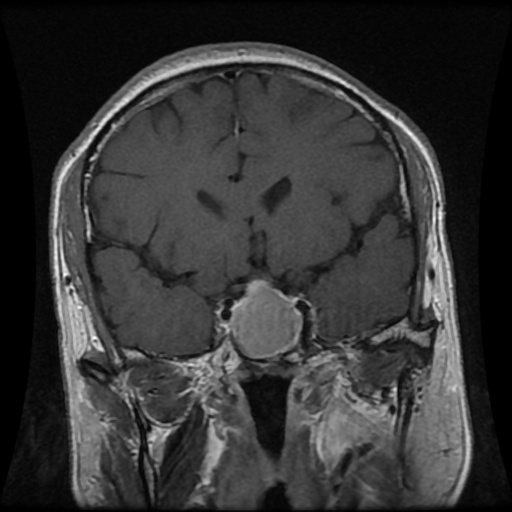pituitary: (228, 280, 302, 358)
